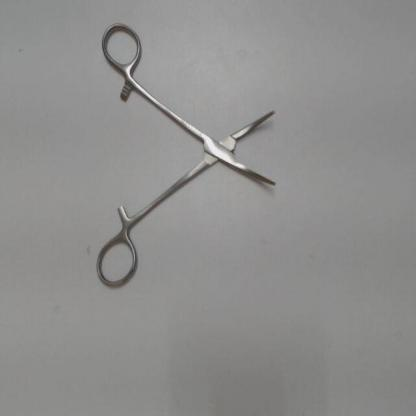Crile Artery Forceps: (88, 15, 289, 296)
